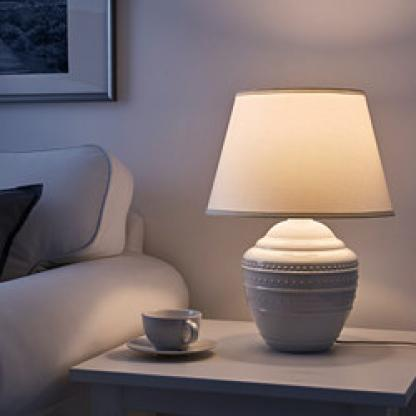Lamp: (203, 76, 398, 354)
